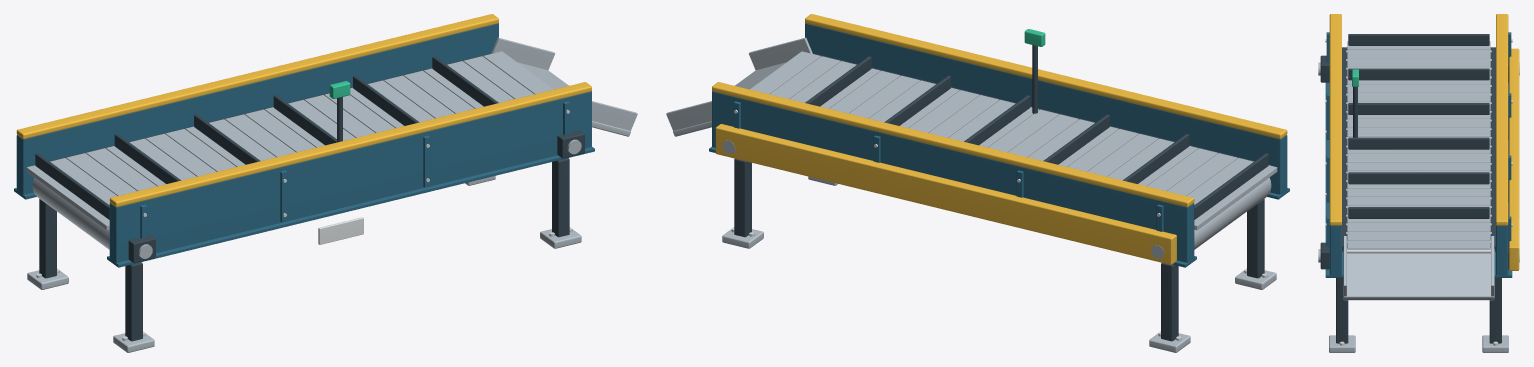
File: Equipment_CV02.fbx
The picture shows the model from 3 angles, left to right: view 1: azimuth 30°, elevation 25°; view 2: azimuth 150°, elevation 25°; view 3: azimuth 270°, elevation 25°; orthographic projection. The views are drawn at different scales.
Visible parts, largest first — view 1: ScrapSideWall, ScrapSideWall.001, ScrapGuard, ScrapGuard.001, ScrapWallFold, TailDrumMesh.001, Leg.008, Leg.010, Leg.009, ScrapCleat, ChuteSideCheek.001, HingedSlat_11 (+36 smaller); view 2: ScrapSideWall.001, ScrapChainGuard, ScrapSideWall, ScrapGuard.001, ScrapGuard, TailDrumMesh.001, Leg.009, Leg.011, Leg.008, ScrapCleat, ChuteSideCheek, HingedSlat_15 (+33 smaller); view 3: DischargeChute, ScrapGuard, ScrapGuard.001, ScrapChainGuard, ScrapCleat.003, ScrapCleat.004, ScrapCleat.001, ScrapCleat, ScrapCleat.005, ScrapCleat.002, HingedSlat_13, HingedSlat_22 (+40 smaller).
Part boxes in pixels (x1,y1,x2,y2): ScrapSideWall: (109, 91, 591, 263); ScrapSideWall.001: (16, 23, 498, 195); ScrapGuard: (109, 82, 591, 207); ScrapGuard.001: (16, 14, 498, 139); ScrapWallFold: (107, 147, 594, 267); TailDrumMesh.001: (32, 177, 109, 249); Leg.008: (125, 262, 142, 341); Leg.010: (552, 158, 569, 237); Leg.009: (39, 199, 56, 278); ScrapCleat: (35, 153, 109, 219); ChuteSideCheek.001: (491, 37, 555, 69); HingedSlat_11: (245, 109, 315, 152); ScrapSideWall.001: (712, 91, 1194, 262); ScrapChainGuard: (715, 124, 1176, 264); ScrapSideWall: (805, 23, 1287, 195); ScrapGuard.001: (712, 82, 1194, 207); ScrapGuard: (805, 14, 1287, 139); TailDrumMesh.001: (1194, 177, 1271, 249); Leg.009: (1161, 263, 1178, 341); Leg.011: (734, 158, 751, 237); Leg.008: (1247, 199, 1264, 278); ScrapCleat: (1194, 153, 1268, 219); ChuteSideCheek: (748, 37, 812, 69); HingedSlat_15: (909, 90, 979, 132); DischargeChute: (1343, 248, 1494, 300); ScrapGuard: (1329, 14, 1341, 225); ScrapGuard.001: (1496, 14, 1508, 225); ScrapChainGuard: (1509, 48, 1519, 270); ScrapCleat.003: (1348, 137, 1489, 149); ScrapCleat.004: (1348, 172, 1489, 184); ScrapCleat.001: (1348, 68, 1489, 80); ScrapCleat: (1348, 34, 1489, 45); ScrapCleat.005: (1348, 207, 1489, 218); ScrapCleat.002: (1348, 103, 1489, 114); HingedSlat_13: (1347, 153, 1490, 162); HingedSlat_22: (1347, 231, 1490, 240).
Bounding box in the file's own units: 5.34 × 1.96 × 1.97.
